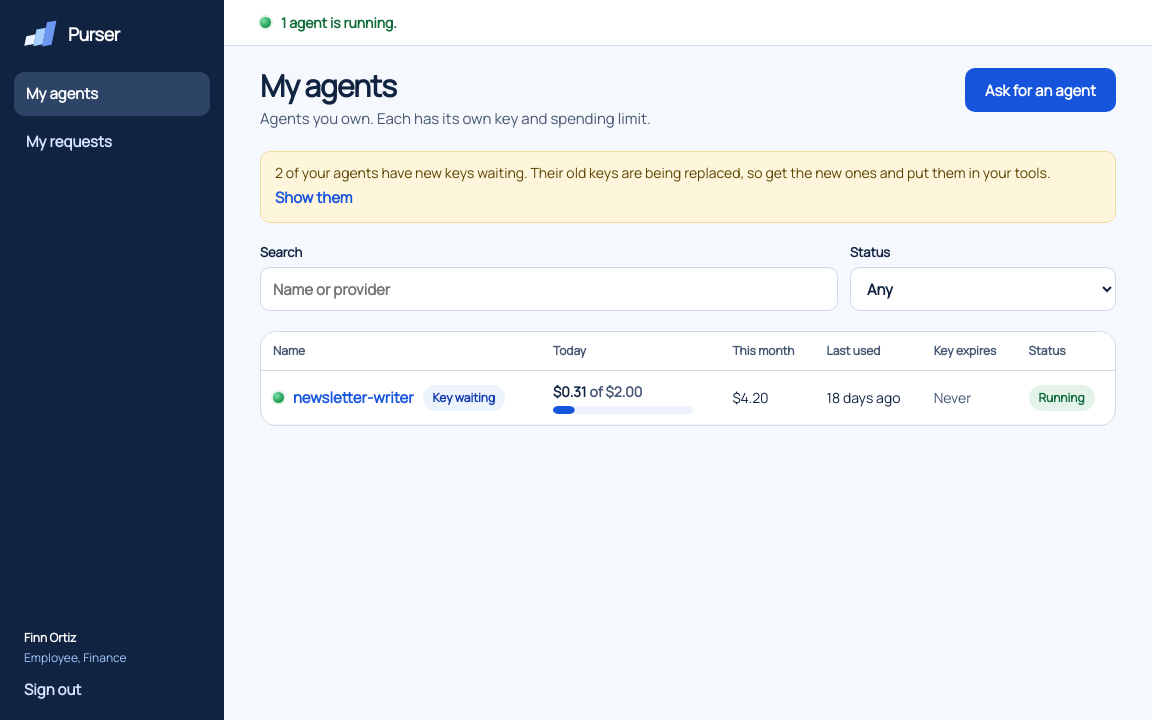
Test: services and agents asking for themselves › tells owners when new keys are waiting, and can show just those
Expected: the text "2 of your agents have new keys" is shown, [275,162,1050,182]
Click the button "Show them" at (314, 197), box [275,182,352,212]
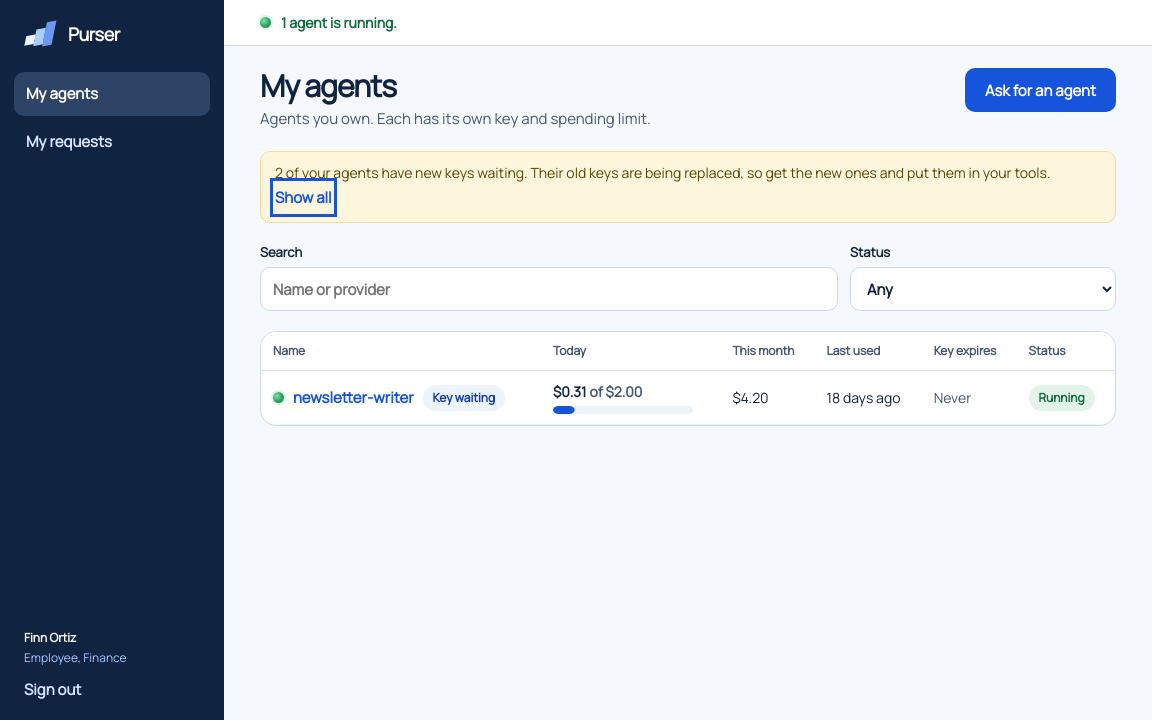
Result: the button "Show all" is shown at [275,182,332,212]
